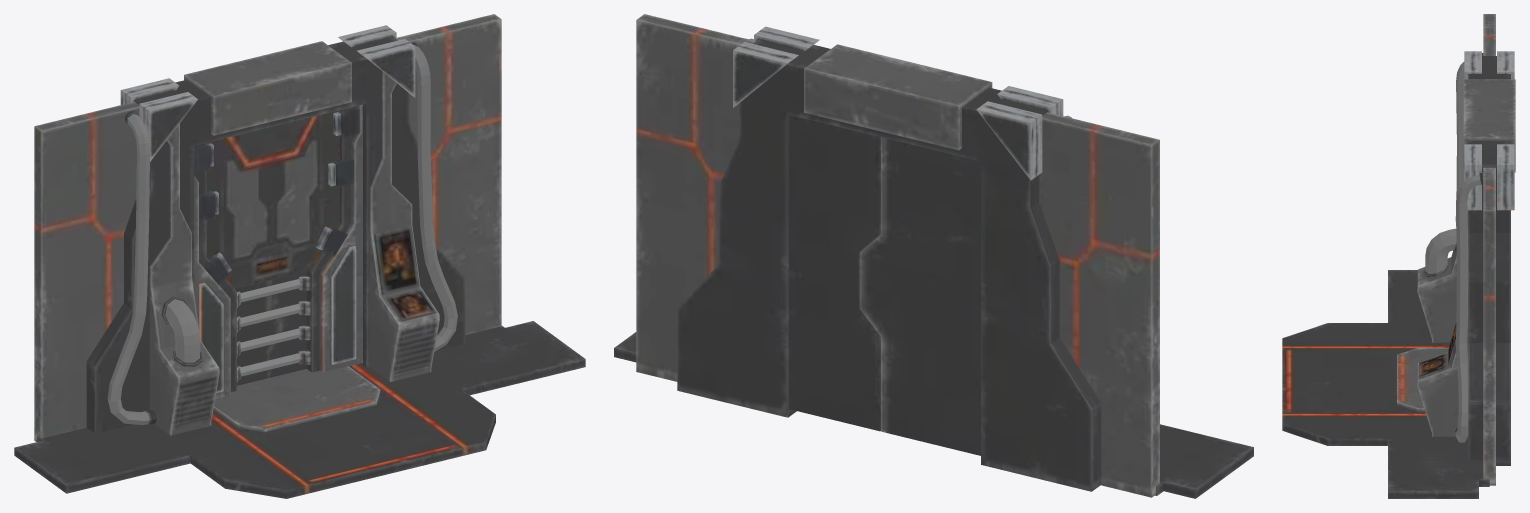
Rendered from herald-door.glb.
3 views of the same model, side by side, from view 1: azimuth 30°, elevation 25°; view 2: azimuth 150°, elevation 25°; view 3: azimuth 270°, elevation 25° (orthographic). The views are drawn at different scales.
Visible parts, largest first — view 1: Object_39, Object_25, Object_31, Object_27, Object_33, Object_55, Object_43, Object_47, Object_35, Object_45, Object_51, Object_29 (+3 smaller); view 2: Object_39, Object_31, Object_57, Object_41, Object_43, Object_45, Object_25; view 3: Object_25, Object_31, Object_27, Object_39, Object_47, Object_43, Object_45, Object_49, Object_29.
Boxes of the visible parts, x1,y1,x2,y2 form: Object_39: (34, 14, 501, 441); Object_25: (14, 321, 585, 498); Object_31: (86, 37, 465, 433); Object_27: (149, 71, 439, 435); Object_33: (206, 111, 339, 288); Object_55: (269, 104, 362, 377); Object_43: (184, 41, 351, 135); Object_47: (107, 42, 457, 425); Object_35: (194, 143, 278, 398); Object_45: (120, 25, 415, 161); Object_51: (194, 108, 360, 284); Object_29: (374, 225, 435, 321); Object_39: (636, 14, 1159, 497); Object_31: (677, 40, 1101, 491); Object_57: (859, 137, 980, 455); Object_41: (789, 115, 880, 431); Object_43: (804, 44, 992, 150); Object_45: (733, 26, 1063, 180); Object_25: (614, 332, 1253, 498); Object_25: (1282, 270, 1489, 498); Object_31: (1468, 56, 1510, 465); Object_27: (1417, 210, 1468, 436); Object_39: (1483, 14, 1495, 485); Object_47: (1455, 53, 1483, 442); Object_43: (1463, 79, 1515, 172); Object_45: (1464, 51, 1514, 210); Object_49: (1423, 228, 1456, 277); Object_29: (1419, 323, 1456, 378).
Bounding box in the file's own units: 7.26 × 4.28 × 3.23.
Materials: 1 (1 with a texture image).
